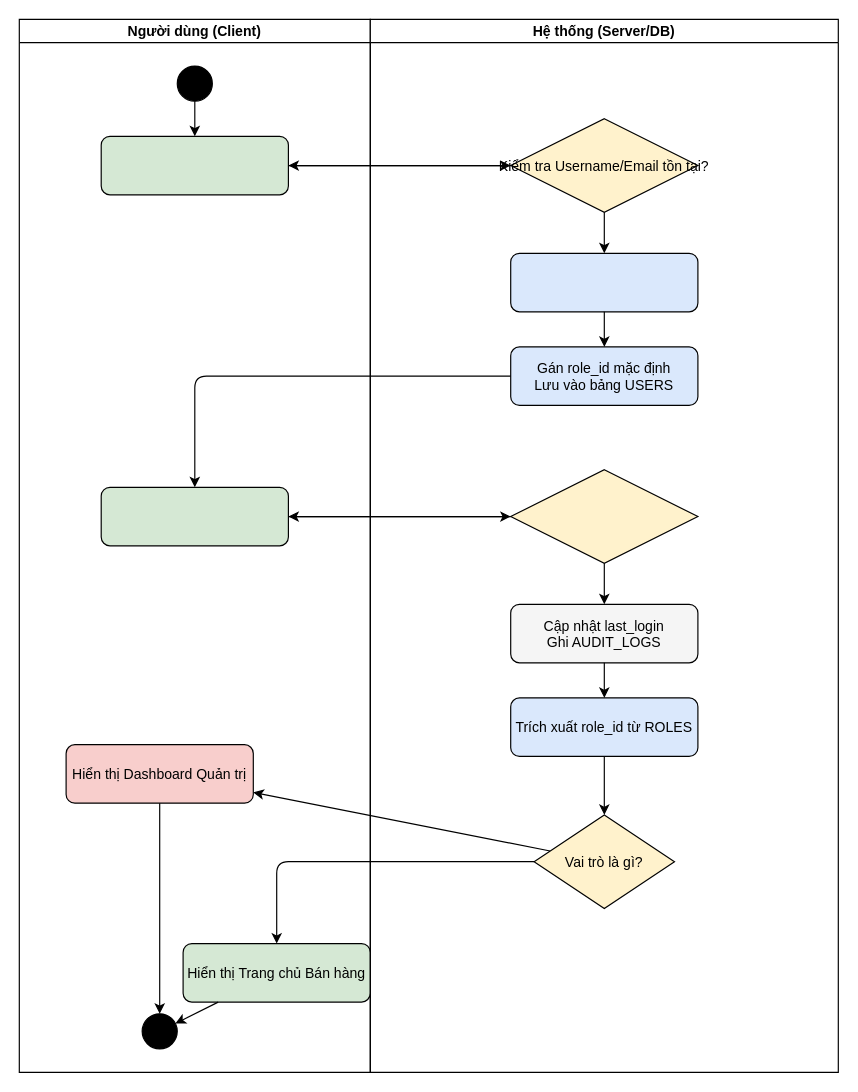
Image size: 858x1092. Some labels were removed from this diagram. The centre of each missing label's shape, as x and y in pixels:
"Bấm mật khẩu (BCrypt) Tạo password_hash" belongs at (604,282).
"Nhập thông tin Đăng nhập" belongs at (194,516).
"Nhập Username, Email, Pass" belongs at (194,165).
"So khớp password_hash" belongs at (604,516).
